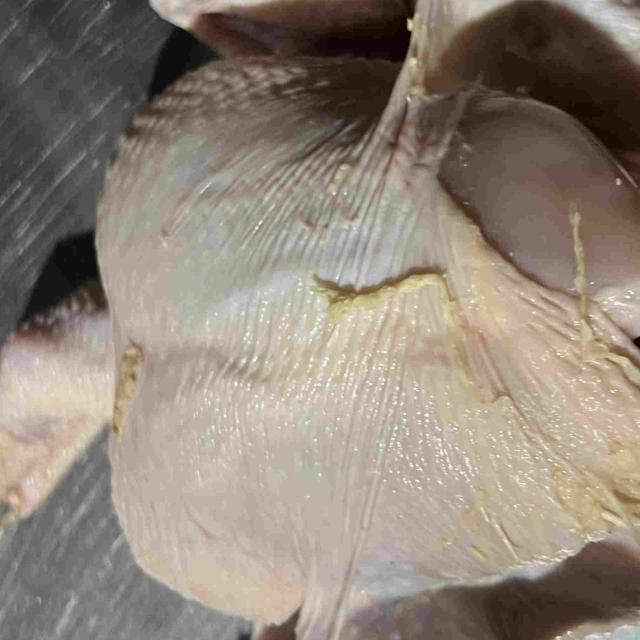breast: (94, 61, 640, 611)
leg: (397, 0, 640, 103)
neck: (0, 279, 113, 508)
wing: (151, 0, 405, 63)
